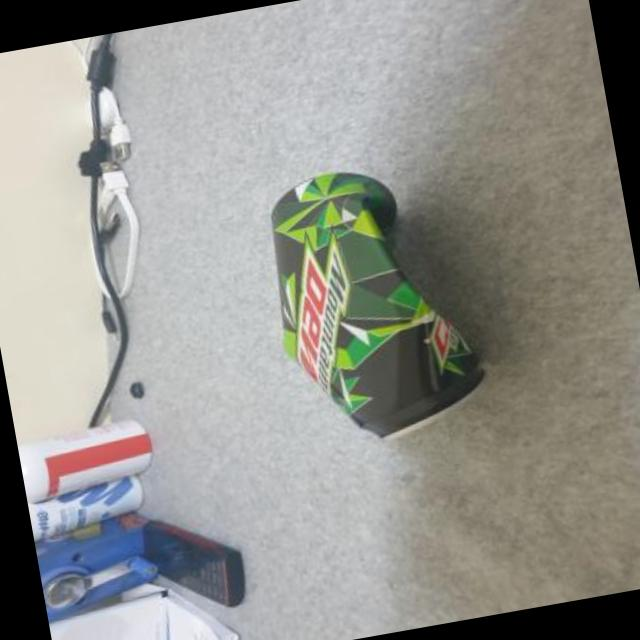metal: (269, 174, 480, 438)
